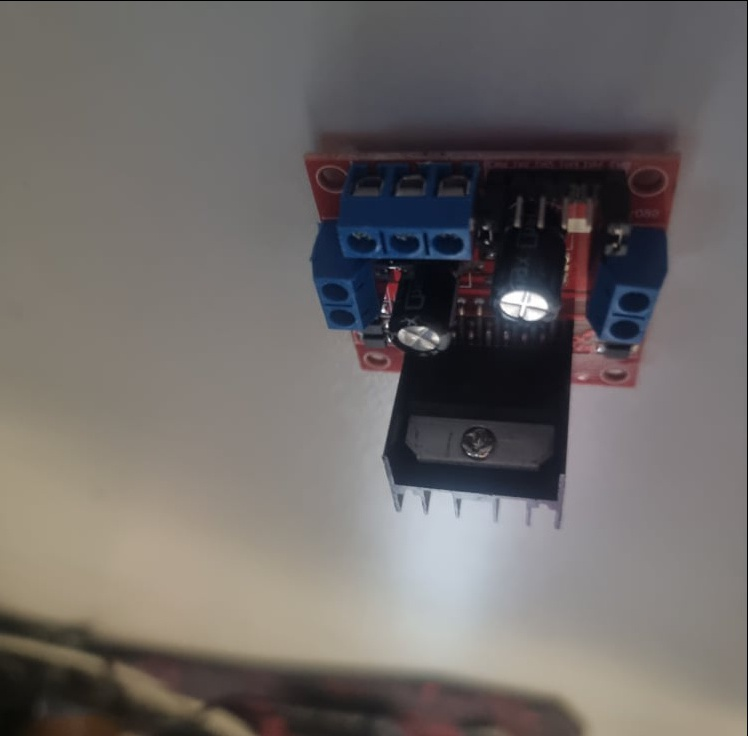MOTOR: (306, 144, 685, 528)
